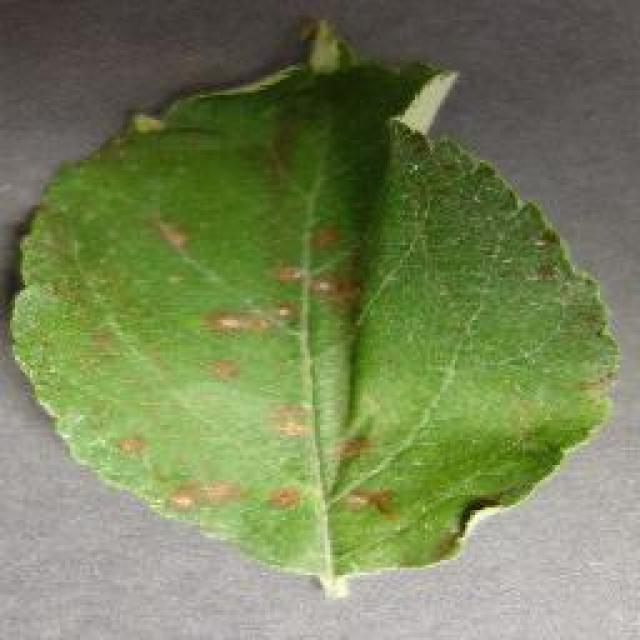apple healthy: (5, 15, 620, 600)
